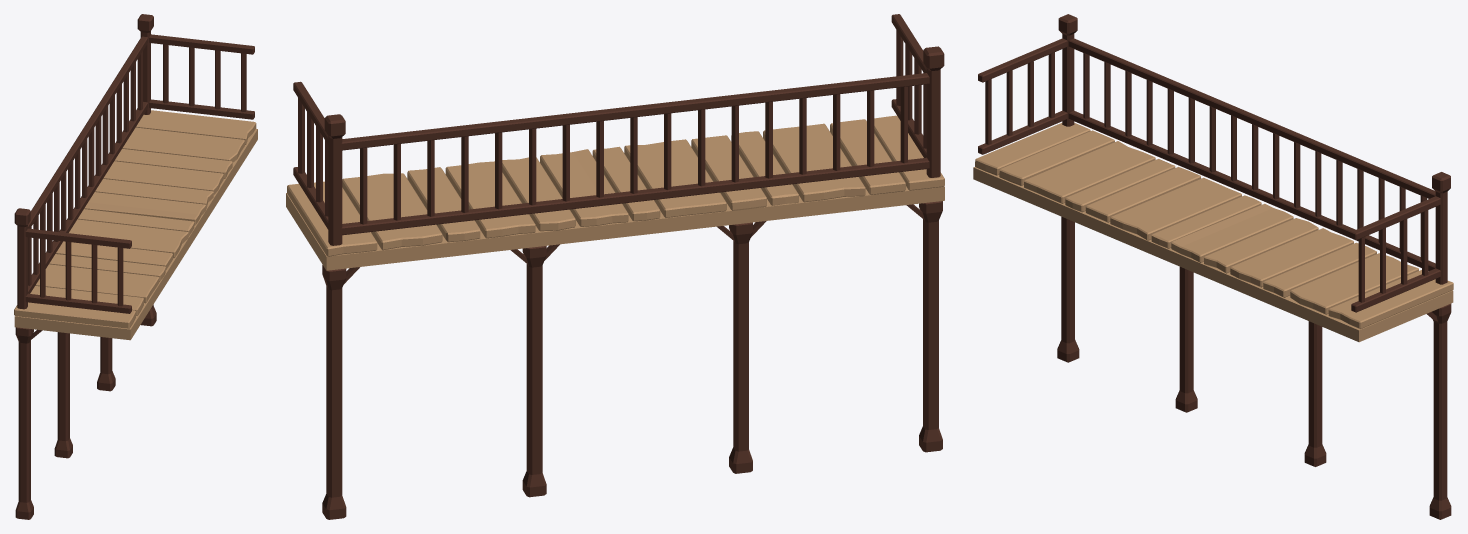
The model's file is balcony-with-railing-b.glb.
The picture shows the model from 3 angles, left to right: view 1: azimuth 30°, elevation 25°; view 2: azimuth 150°, elevation 25°; view 3: azimuth 270°, elevation 25°; orthographic projection. The views are drawn at different scales.
Parts seen in each view (by area): view 1: Balcony With Railing B (×2); view 2: Balcony With Railing B (×2); view 3: Balcony With Railing B (×2).
Part boxes in pixels (x1,y1,x2,y2): Balcony With Railing B (×2): (14, 14, 257, 519); Balcony With Railing B (×2): (286, 14, 944, 519); Balcony With Railing B (×2): (973, 14, 1453, 519).
Size of the model in its own units: 4.07 by 3.19 by 4.08.
